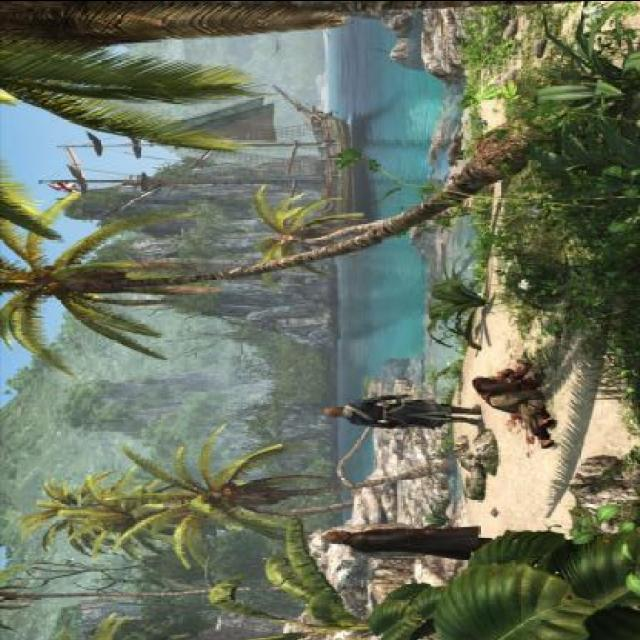Coconut: (202, 480, 246, 511), (32, 264, 74, 296)
